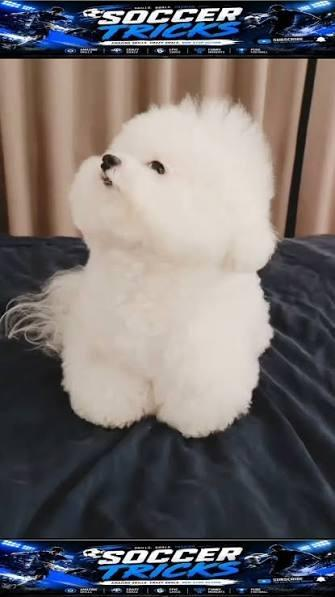adult_dog: (1, 91, 276, 440)
